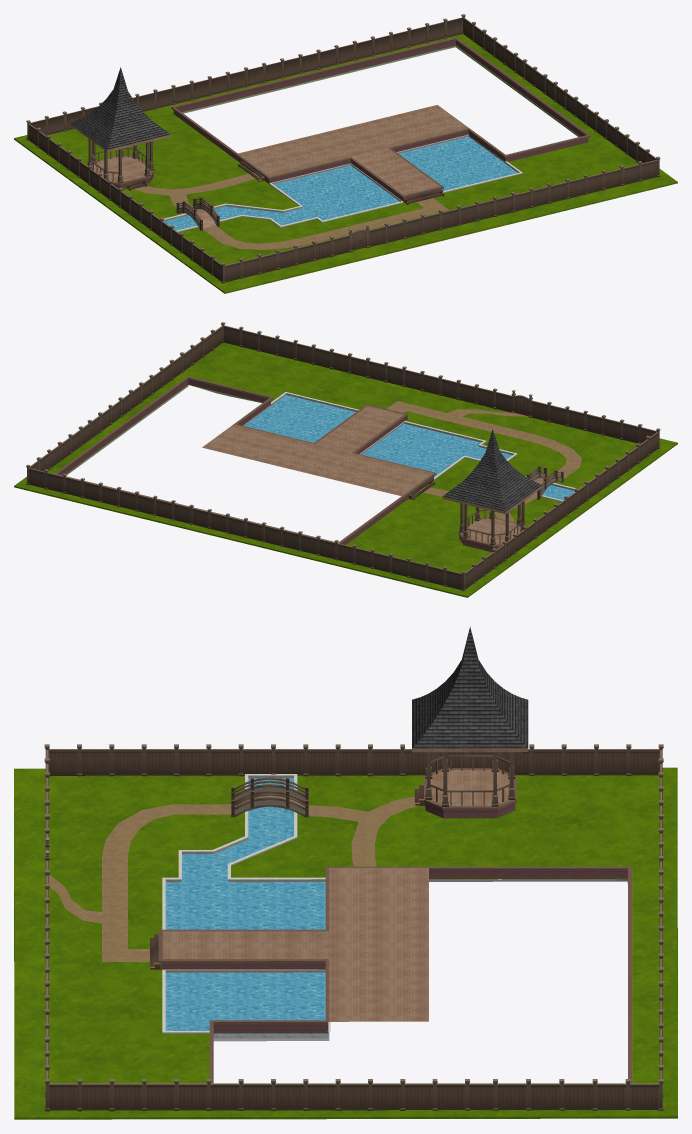
File: rixi_huanjing.FBX
3 views of the same model, one above another, from view 1: azimuth 30°, elevation 25°; view 2: azimuth 150°, elevation 25°; view 3: azimuth 270°, elevation 25° (orthographic). The views are drawn at different scales.
Visible parts, largest first — view 1: DrawCall_1481, Line006, DrawCall_1749, DrawCall_1748, Line001, Group018, DrawCall_1709, Line008, DrawCall_1731, DrawCall_1576; view 2: DrawCall_1481, Line006, DrawCall_1748, Group018, DrawCall_1749, Line001, DrawCall_1709, Line008, DrawCall_1731; view 3: DrawCall_1481, Line006, DrawCall_1748, DrawCall_1749, Group018, Line001, Line008, DrawCall_1709, DrawCall_1731, Line002.
Boxes of the visible parts, x1=… form: DrawCall_1481: x1=14, y1=34, x2=677, y2=293; Line006: x1=28, y1=17, x2=657, y2=282; DrawCall_1749: x1=163, y1=137, x2=517, y2=230; DrawCall_1748: x1=238, y1=105, x2=468, y2=195; Line001: x1=171, y1=37, x2=590, y2=202; Group018: x1=26, y1=14, x2=660, y2=283; DrawCall_1709: x1=71, y1=67, x2=170, y2=149; Line008: x1=134, y1=172, x2=448, y2=249; DrawCall_1731: x1=163, y1=134, x2=522, y2=232; DrawCall_1576: x1=182, y1=46, x2=579, y2=136; DrawCall_1481: x1=14, y1=342, x2=677, y2=597; Line006: x1=29, y1=325, x2=658, y2=589; DrawCall_1748: x1=202, y1=406, x2=432, y2=496; Group018: x1=26, y1=322, x2=660, y2=591; DrawCall_1749: x1=244, y1=395, x2=574, y2=500; Line001: x1=54, y1=376, x2=436, y2=544; DrawCall_1709: x1=443, y1=429, x2=542, y2=511; Line008: x1=387, y1=401, x2=582, y2=521; DrawCall_1731: x1=243, y1=392, x2=575, y2=501; DrawCall_1481: x1=14, y1=767, x2=677, y2=1119; Line006: x1=46, y1=749, x2=661, y2=1110; DrawCall_1748: x1=162, y1=868, x2=428, y2=1021; DrawCall_1749: x1=165, y1=778, x2=329, y2=1035; Group018: x1=44, y1=744, x2=663, y2=1111; Line001: x1=158, y1=866, x2=632, y2=1083; Line008: x1=49, y1=796, x2=420, y2=961; DrawCall_1709: x1=412, y1=626, x2=528, y2=748; DrawCall_1731: x1=162, y1=774, x2=330, y2=1038; Line002: x1=424, y1=768, x2=516, y2=818.
Bounding box in the file's own units: 5140 × 1244 × 4133.
